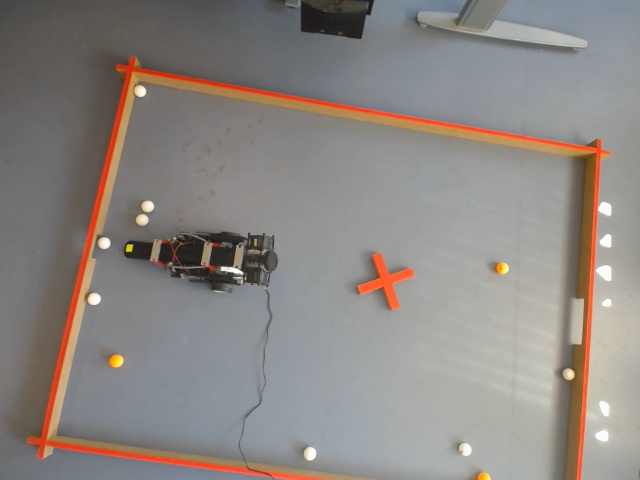orange: (107, 353, 125, 370), (493, 260, 511, 276), (474, 471, 494, 480)
robot: (151, 226, 278, 293)
white: (0, 13, 416, 447), (1, 9, 263, 441), (596, 263, 614, 283), (598, 200, 613, 218), (458, 440, 473, 458), (594, 429, 612, 444), (302, 446, 318, 462), (561, 366, 576, 382), (600, 233, 614, 250), (598, 399, 610, 417), (599, 297, 614, 309)
